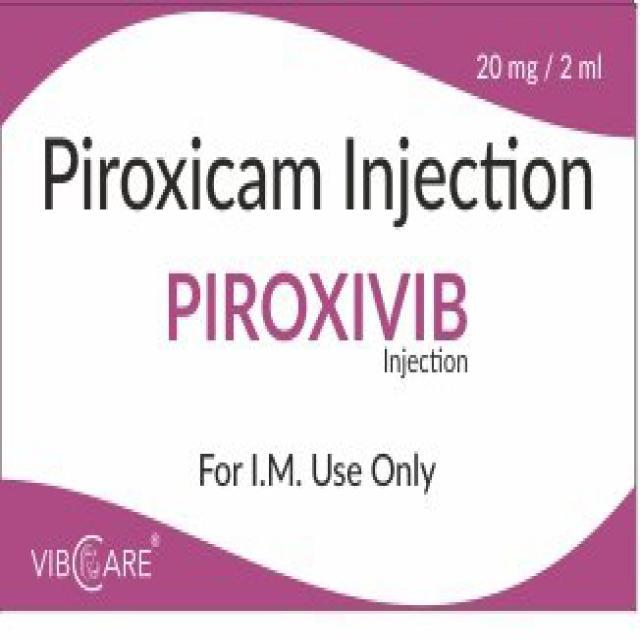drug-name: (159, 268, 470, 348)
